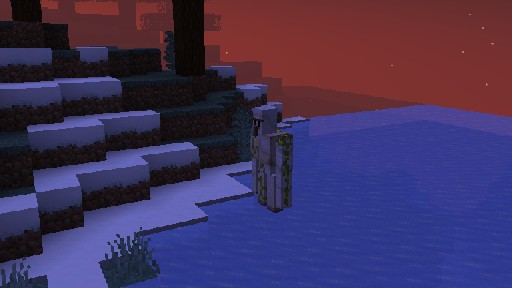iron_golem: (249, 105, 293, 213)
